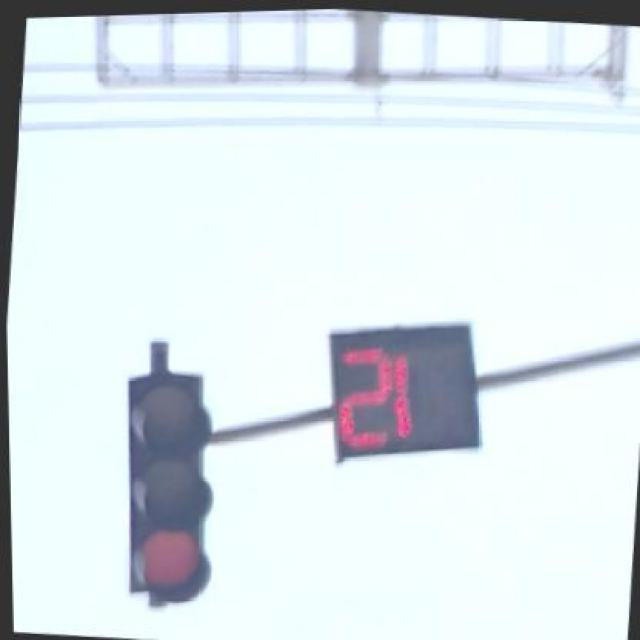red_light: (127, 339, 209, 602)
